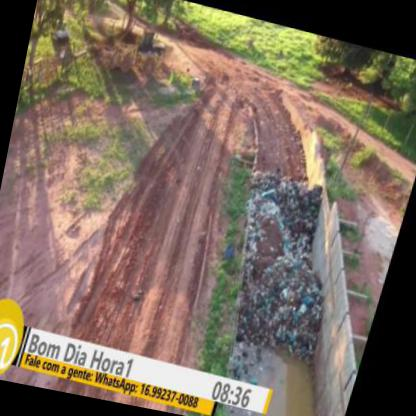agua: (268, 359, 325, 415)
lixo: (231, 164, 346, 326)
